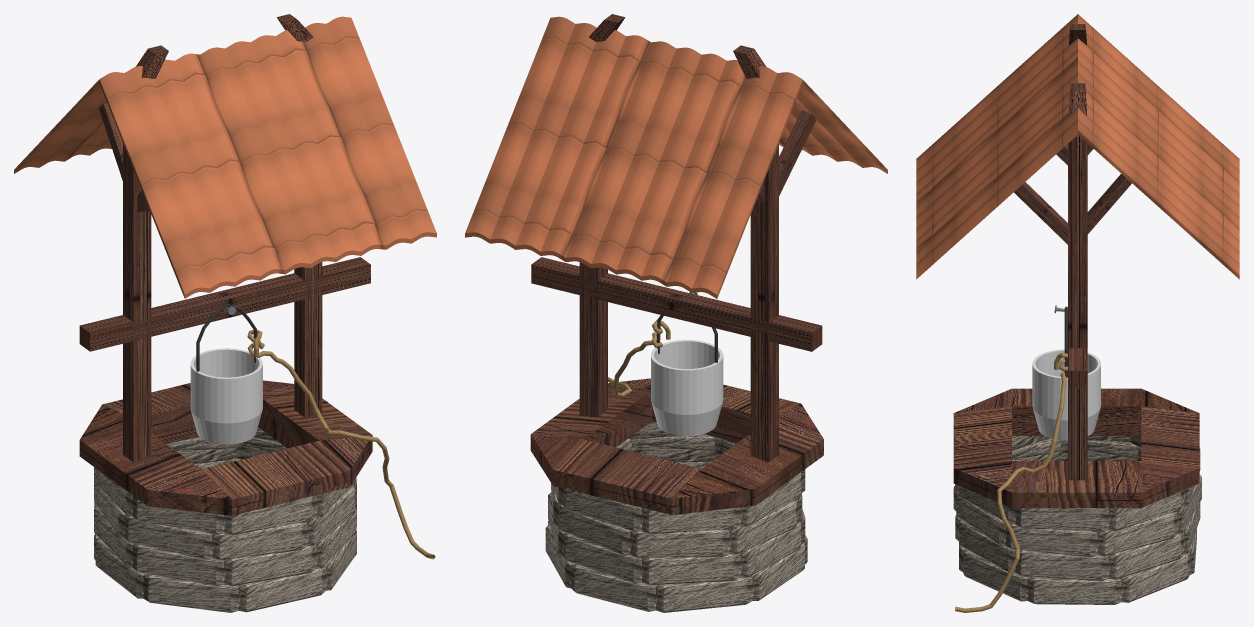
Rendered from SumurFix.fbx.
3 renders of one model, left to right at view 1: azimuth 30°, elevation 25°; view 2: azimuth 150°, elevation 25°; view 3: azimuth 270°, elevation 25°, orthographic. The views are drawn at different scales.
Visible parts, largest first — view 1: Cube.006, Cube.004, Cube.002, Cube, Cube.001, Cylinder, Cube.003, Plane.001, Cube.005; view 2: Cube.006, Cube.004, Cube.002, Cube, Cube.001, Cylinder, Cube.003, Cube.007, Plane.001; view 3: Cube.006, Cube.004, Cube.002, Cube, Cube.001, Cube.003, Cylinder, Plane.001, Cube.009, Cube.008.
Part boxes in pixels (box(x1,y1,x2,y2)): Cube.006: box(14, 16, 436, 298); Cube.004: box(79, 14, 372, 515); Cube.002: box(94, 437, 356, 560); Cube: box(94, 531, 356, 612); Cube.001: box(94, 458, 356, 586); Cylinder: box(190, 348, 262, 444); Cube.003: box(94, 427, 356, 534); Plane.001: box(247, 330, 435, 559); Cube.005: box(99, 103, 122, 180); Cube.006: box(465, 16, 887, 298); Cube.004: box(530, 14, 823, 514); Cube.002: box(551, 434, 802, 558); Cube: box(545, 521, 807, 612); Cube.001: box(548, 461, 805, 585); Cylinder: box(651, 340, 723, 435); Cube.003: box(553, 421, 805, 534); Cube.007: box(779, 110, 816, 195); Plane.001: box(608, 319, 670, 397); Cube.006: box(916, 14, 1239, 279); Cube.004: box(953, 24, 1199, 508); Cube.002: box(953, 438, 1201, 557); Cube: box(959, 529, 1196, 604); Cube.001: box(955, 460, 1200, 581); Cube.003: box(955, 436, 1200, 532); Cylinder: box(1032, 349, 1100, 440); Plane.001: box(955, 353, 1067, 612); Cube.009: box(1014, 182, 1067, 244); Cube.008: box(1067, 173, 1131, 241).
Size of the model in its own units: 276 by 485 by 286.
7 materials, 3 textured.
